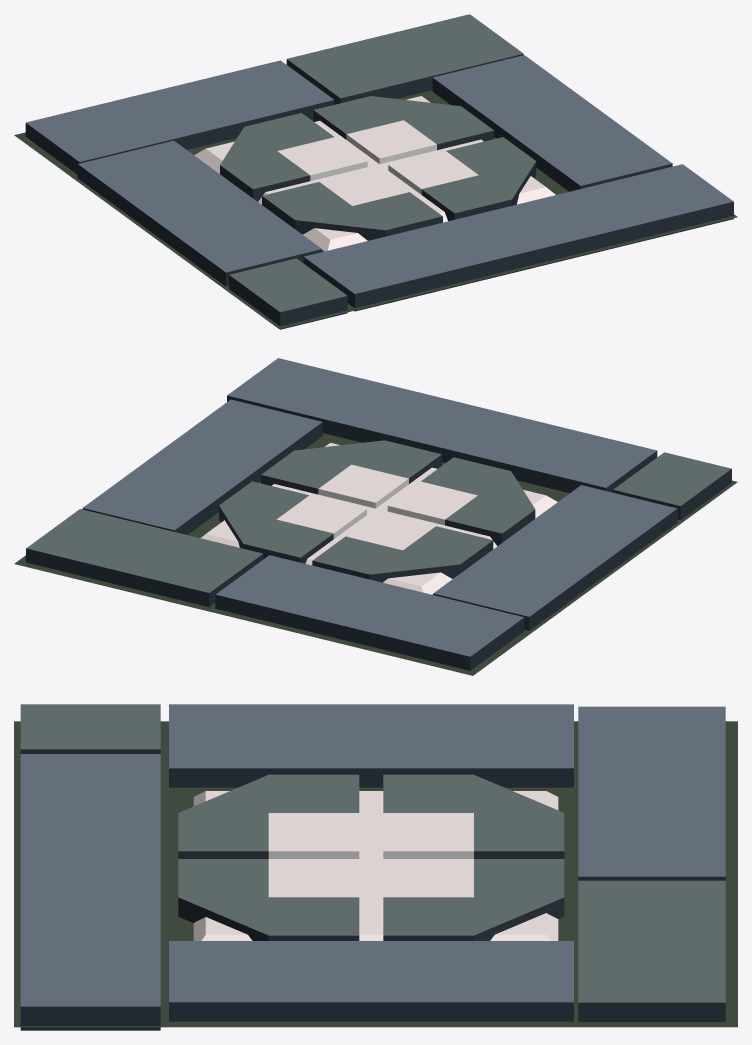
File: Environment_Floor_2.fbx
3 views of the same model, one above another, from view 1: azimuth 30°, elevation 25°; view 2: azimuth 150°, elevation 25°; view 3: azimuth 270°, elevation 25° (orthographic). The views are drawn at different scales.
Parts seen in each view (by area): view 1: Floor_2; view 2: Floor_2; view 3: Floor_2.
Boxes of the visible parts, x1,y1,x2,y2 form: Floor_2: (14, 14, 737, 329); Floor_2: (14, 358, 737, 675); Floor_2: (14, 704, 737, 1030).
Bounding box in the file's own units: 400 × 14.56 × 400.
